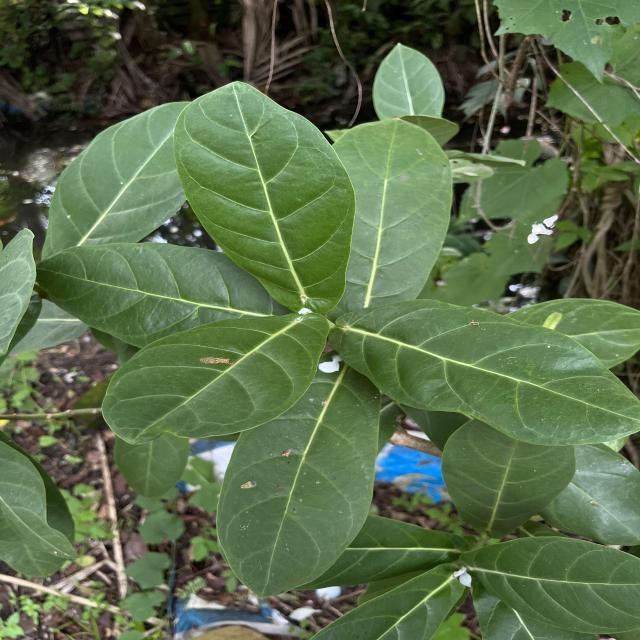Calotropis gigantea: (328, 298, 640, 447), (172, 80, 358, 319), (215, 346, 383, 602), (99, 310, 333, 447), (35, 240, 288, 350), (40, 101, 195, 263), (334, 116, 456, 313), (459, 534, 640, 635), (440, 417, 577, 539), (372, 41, 446, 121)
